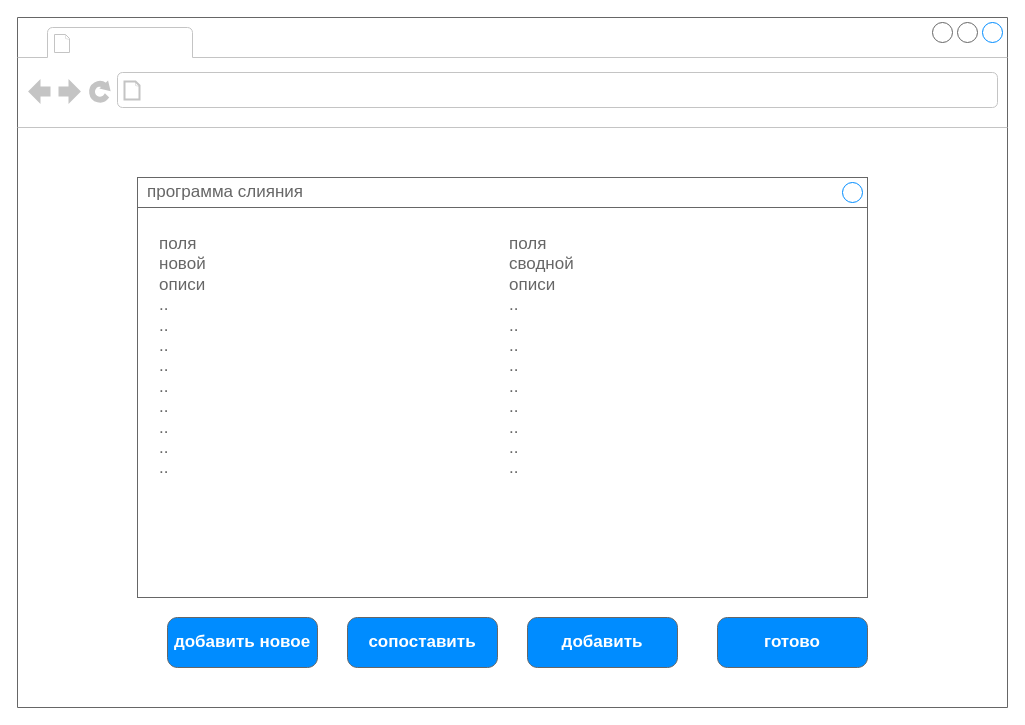
Image size: 1025x725. Some labels were removed from this diagram. Here are the shapes that lost their labels. From the top down, the box of each, then its label:
(76, 28, 188, 56): Page 1
(146, 76, 398, 104): https://www.draw.io
